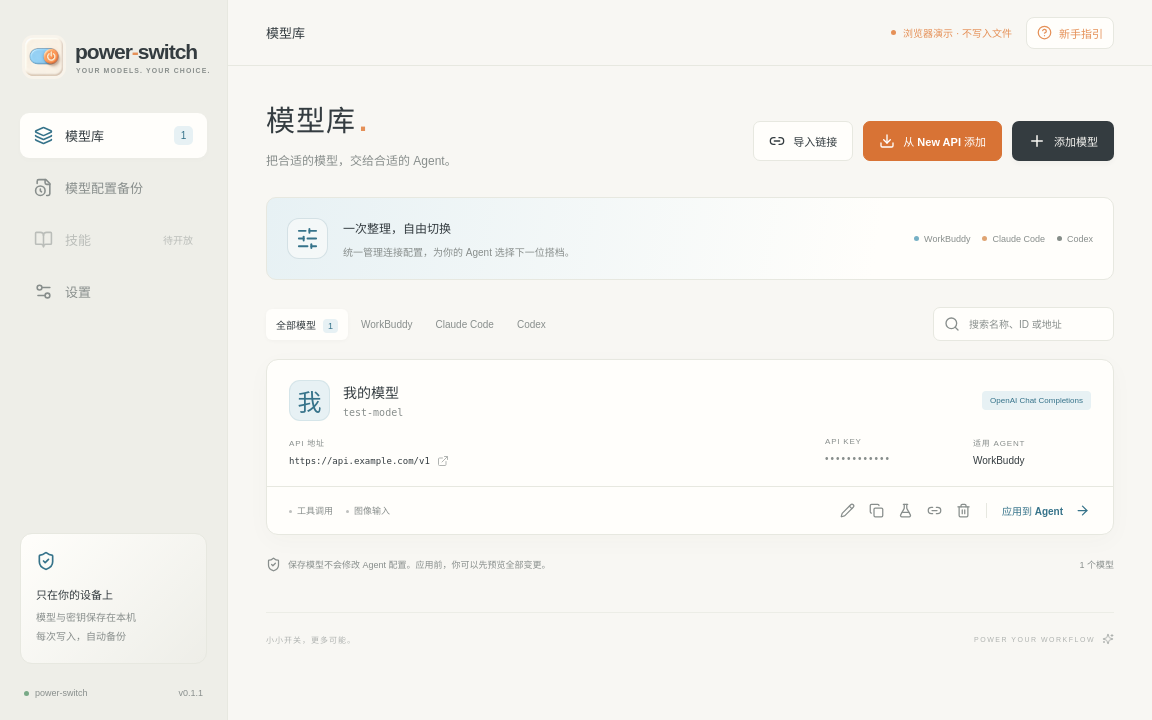
Scenario: library and imports › filters locally and hides list credentials
Expected: the heading "我的模型" is shown, [343,383,403,404]
Step 1. Type "absent" into the field named "搜索模型" → {"x": 1035, "y": 324}, box [967,318,1103,331]
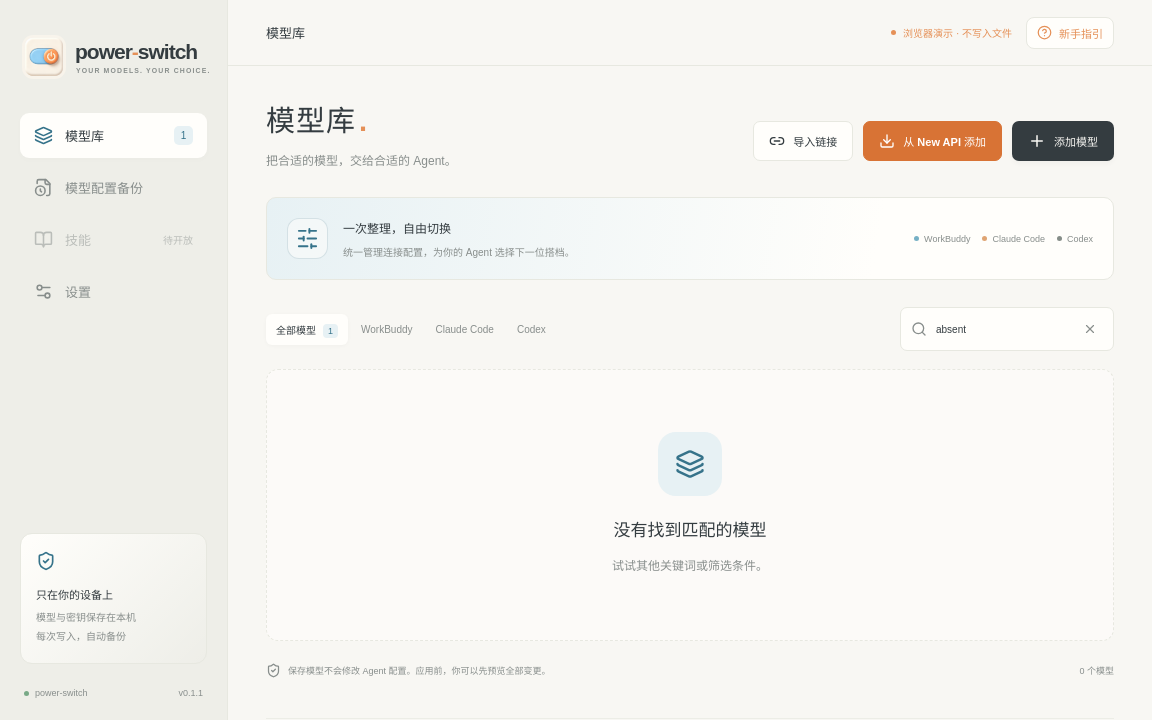
Result: the heading "没有找到匹配的模型" is shown at [614,516,766,541]
